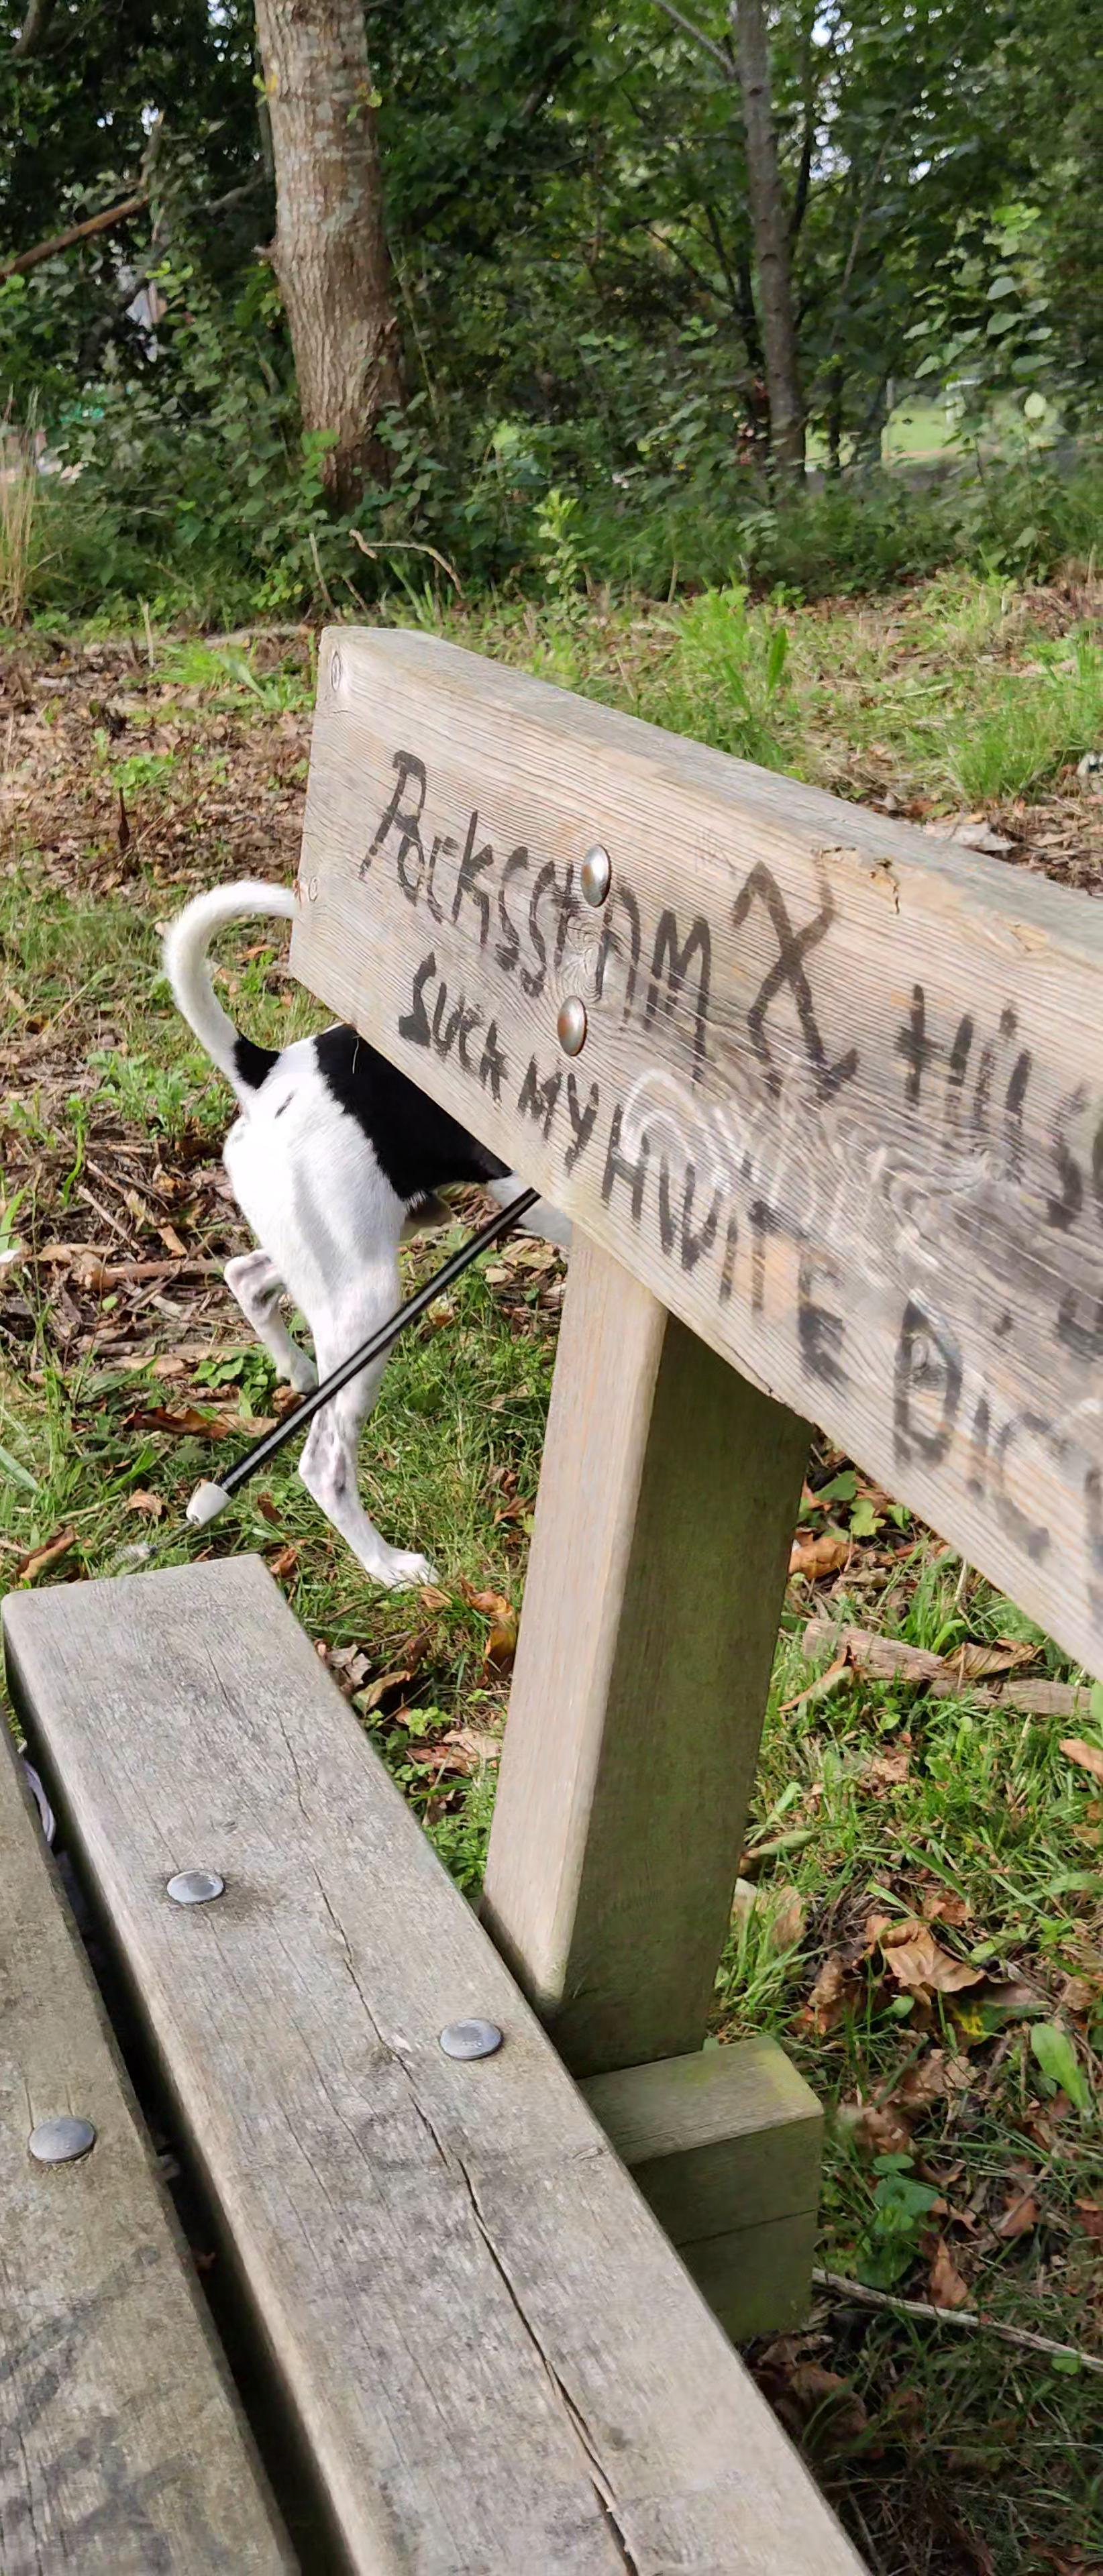Dog: (156, 874, 667, 1598)
